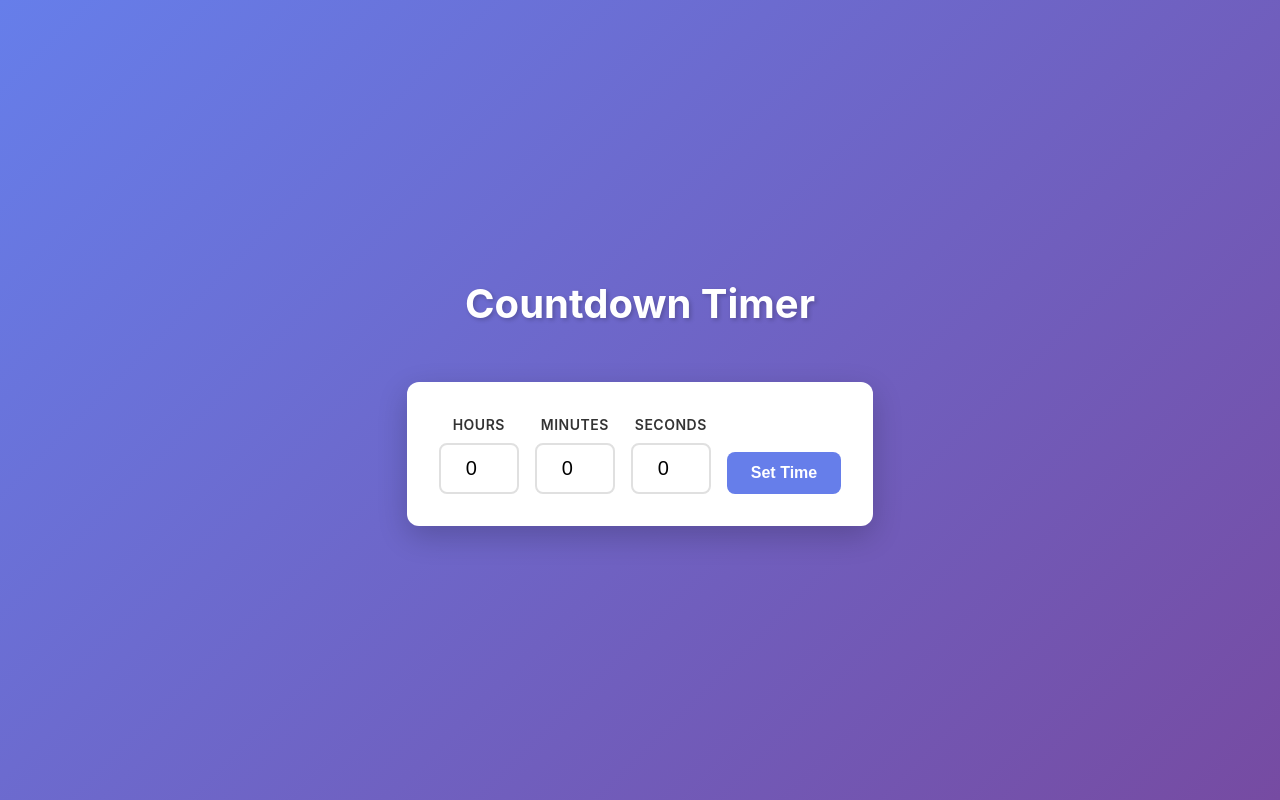
Test: App › renders CountdownTimer after setting a valid time
In the number field labelled "Minutes": [575, 468] box [535, 443, 615, 494], type "5"
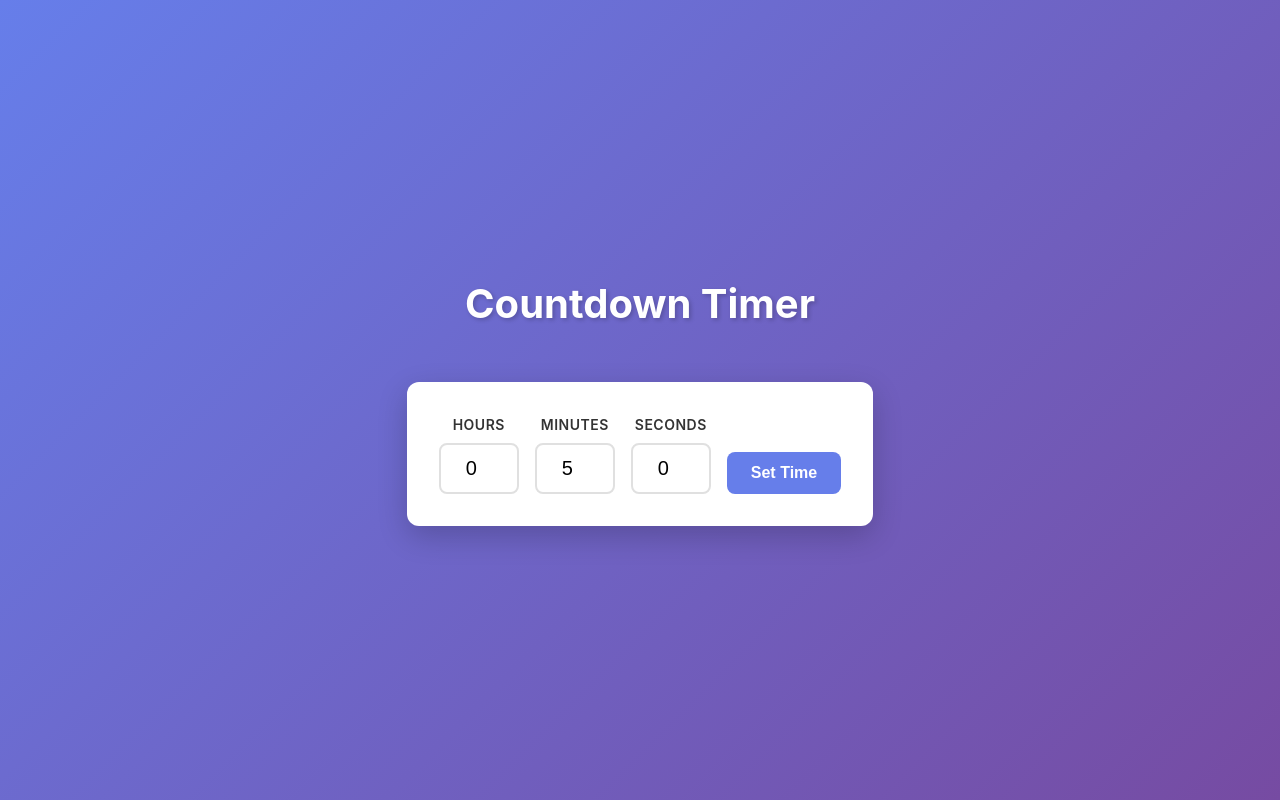
Click the button "Set Time": [784, 473] box [727, 452, 841, 494]
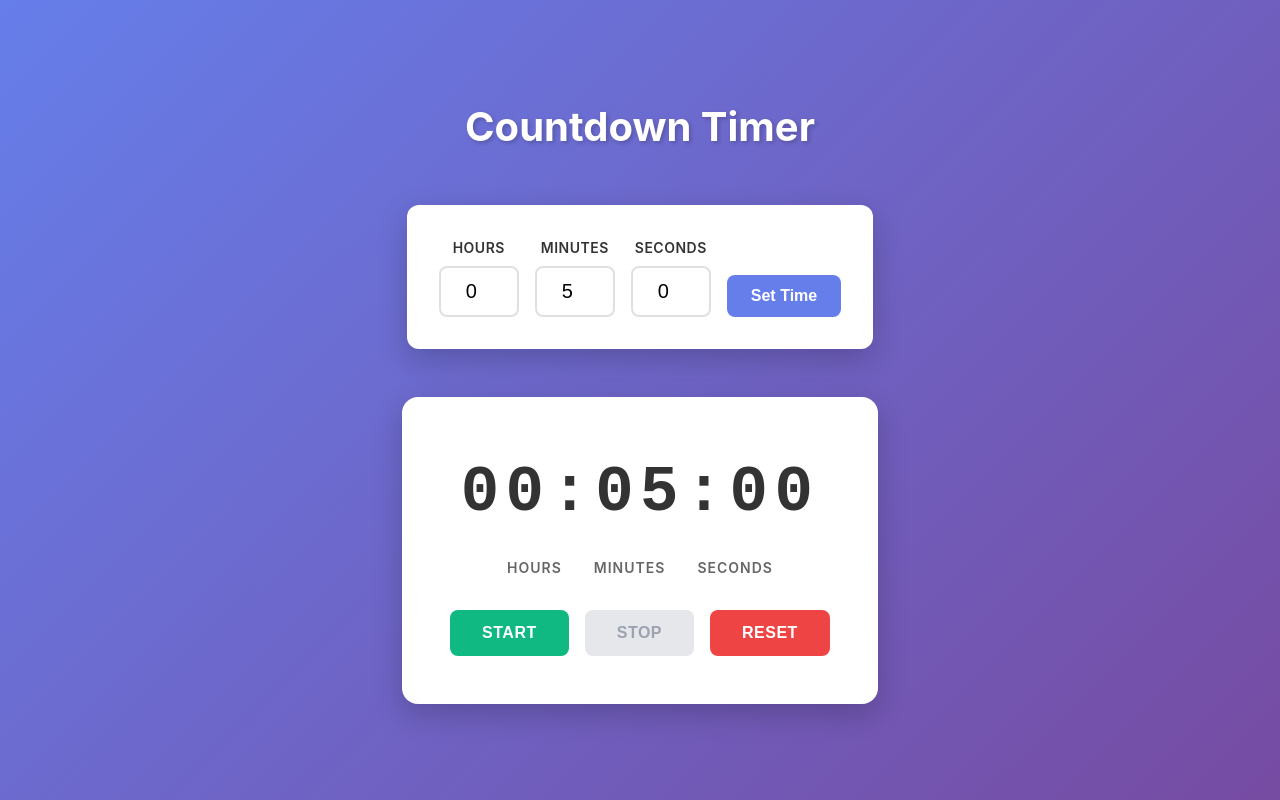
Expected: the button "Start" is shown, [450, 610, 569, 656]
Expected: the button "Stop" is shown, [585, 610, 694, 656]
Expected: the button "Reset" is shown, [710, 610, 830, 656]
